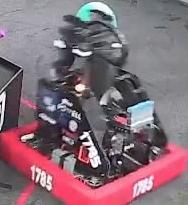red_number: (128, 171, 158, 201), (29, 162, 57, 193)
